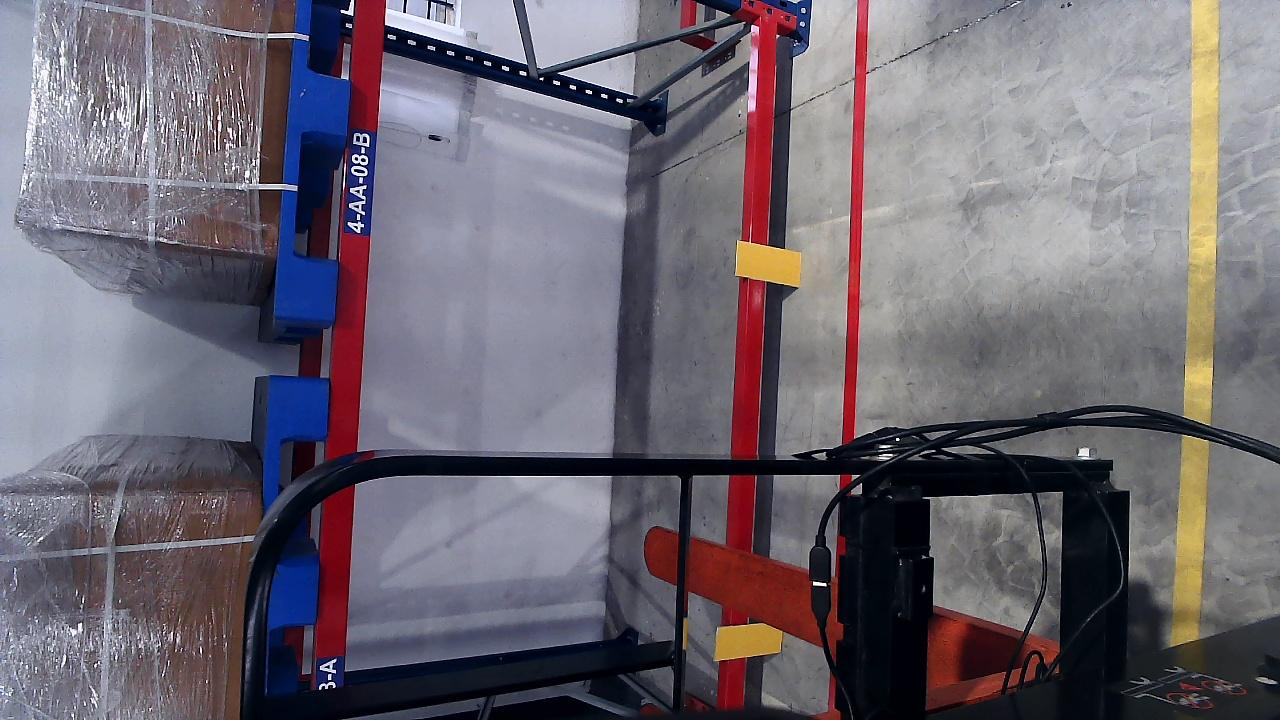h_rack: (309, 0, 390, 689), (718, 22, 777, 714)
orange_strip: (735, 241, 801, 287), (714, 625, 784, 661)
red_line: (840, 7, 869, 442)
small_pallet: (271, 0, 367, 321), (245, 378, 326, 691)
yellow_line: (1164, 0, 1221, 646)
